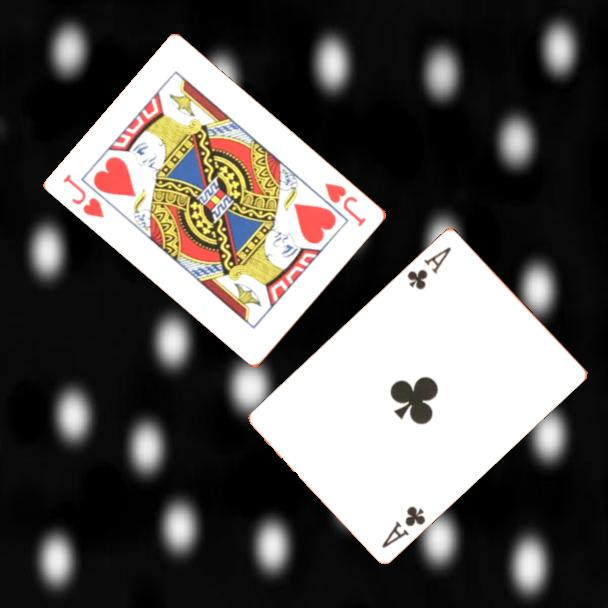c01: (403, 243, 454, 292), (378, 502, 429, 550)
h11: (322, 179, 370, 230), (60, 170, 108, 221)
